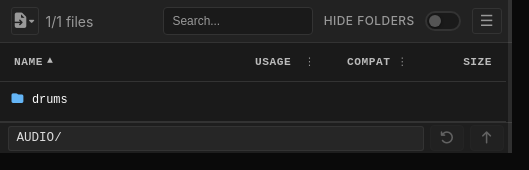
Test: AudioPoolSidebar › path row: shows path then Reset-to-AUDIO then Go-up, both disabled at root and enabled once inside a subfolder
The image size is (529, 170).
Check: the button titled "Reset to AUDIO directory" is disabled, box x1=430 y1=125 x2=464 y2=151
Check: the button titled "Go up (Backspace)" is disabled, box x1=470 y1=125 x2=504 y2=151
What coordinates should you click on to do the following:
click the text "drums"
I would click on:
 (50, 100)
Its box is x1=32 y1=93 x2=68 y2=107.
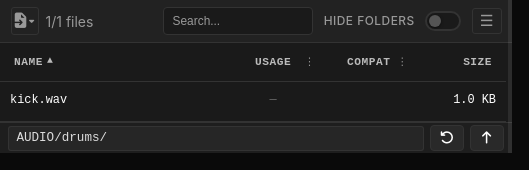
Check: the text "kick.wav" is shown, box x1=10 y1=93 x2=67 y2=107
Check: the button titled "Reset to AUDIO directory" is enabled
Check: the button titled "Go up (Backspace)" is enabled, box x1=470 y1=125 x2=504 y2=151
What coordinates should you click on to do the following:
click the button titled "Reset to AUDIO directory"
I would click on:
 (447, 138)
Its box is x1=430 y1=125 x2=464 y2=151.
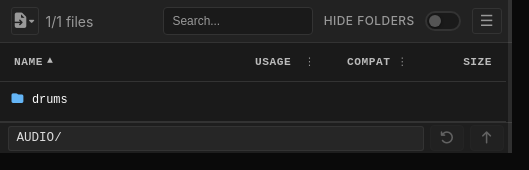
Check: the text "AUDIO/" is shown, box x1=8 y1=126 x2=424 y2=151
Check: the text "drums" is shown, box x1=32 y1=93 x2=68 y2=107
Check: the button titled "Reset to AUDIO directory" is disabled, box x1=430 y1=125 x2=464 y2=151
